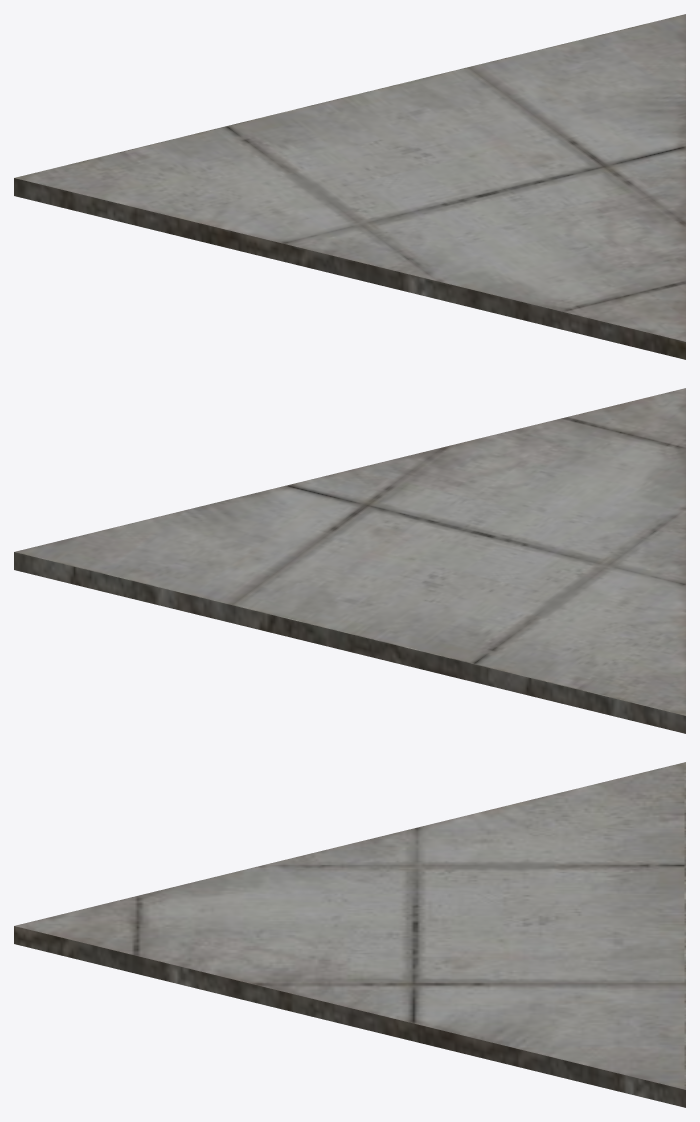
The model's file is stone_foundation_triangle_low_textured.glb.
The picture shows the model from 3 angles, top to bottom: view 1: azimuth 30°, elevation 25°; view 2: azimuth 150°, elevation 25°; view 3: azimuth 270°, elevation 25°; orthographic projection.
Visible parts, largest first — view 1: Circle; view 2: Circle; view 3: Circle.
Boxes of the visible parts, x1,y1,x2,y2 form: Circle: (14,14,685,359); Circle: (14,388,685,733); Circle: (14,762,685,1107).
Size of the model in its own units: 2 by 0.0512 by 1.73.
Materials: 1 (1 with a texture image).
